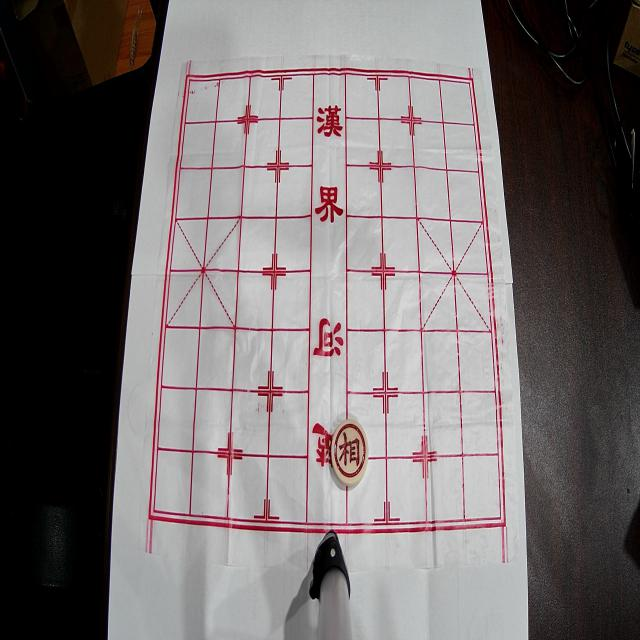red-elephant: (331, 419, 369, 487)
